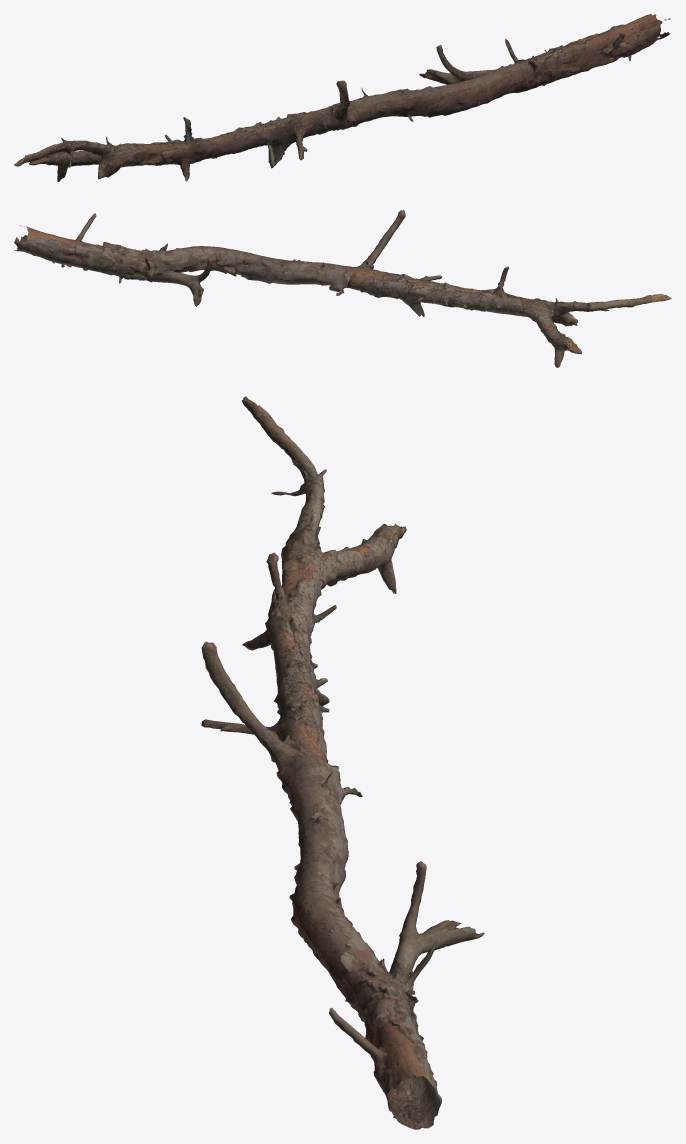
Rendered from branch-2.glb.
3 renders of one model, top to bottom at view 1: azimuth 30°, elevation 25°; view 2: azimuth 150°, elevation 25°; view 3: azimuth 270°, elevation 25°, orthographic. The views are drawn at different scales.
Visible parts, largest first — view 1: Pine Tree Fallen Trunk PBR Scan 01; view 2: Pine Tree Fallen Trunk PBR Scan 01; view 3: Pine Tree Fallen Trunk PBR Scan 01.
Part boxes in pixels (x1,y1,x2,y2): Pine Tree Fallen Trunk PBR Scan 01: (14, 14, 670, 181); Pine Tree Fallen Trunk PBR Scan 01: (14, 210, 671, 367); Pine Tree Fallen Trunk PBR Scan 01: (201, 396, 484, 1129).
Size of the model in its own units: 4.36 by 0.634 by 0.8726.
Materials: 1 (1 with a texture image).
